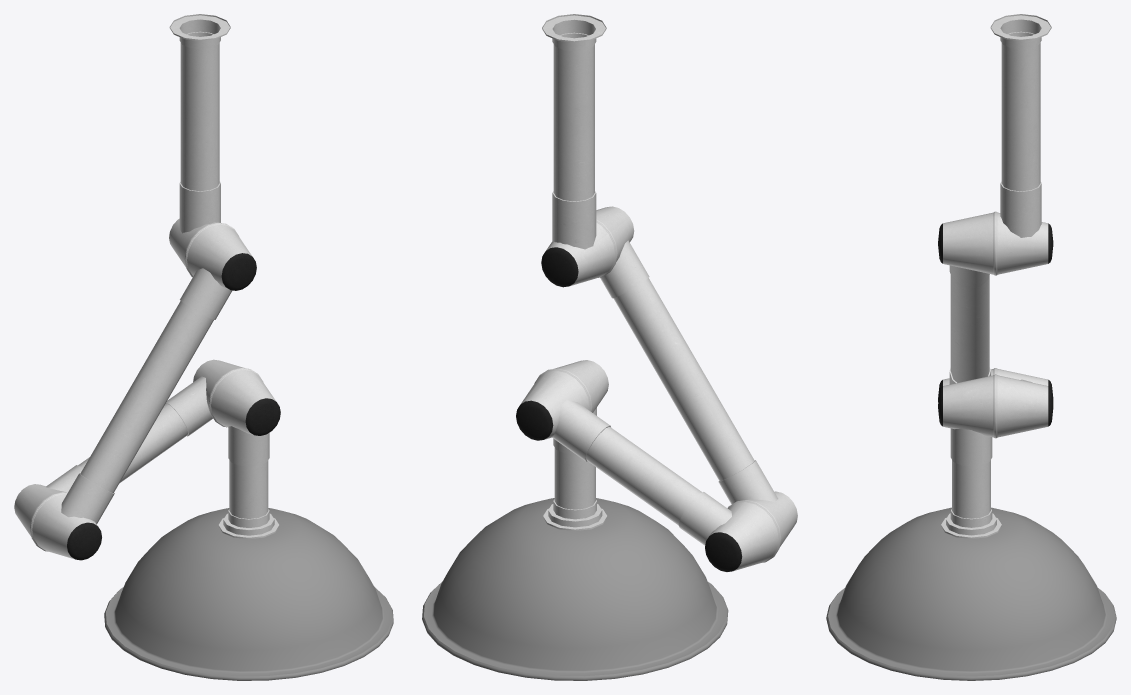
The model's file is SM_吊顶式排气罩_008.fbx.
The picture shows the model from 3 angles, left to right: view 1: azimuth 30°, elevation 25°; view 2: azimuth 150°, elevation 25°; view 3: azimuth 270°, elevation 25°; orthographic projection. The views are drawn at different scales.
Visible parts, largest first — view 1: SM_吊顶式排气罩_008; view 2: SM_吊顶式排气罩_008; view 3: SM_吊顶式排气罩_008.
Part boxes in pixels (x1,y1,x2,y2): SM_吊顶式排气罩_008: (14, 14, 393, 680); SM_吊顶式排气罩_008: (422, 14, 797, 680); SM_吊顶式排气罩_008: (826, 14, 1116, 680).
Bounding box in the file's own units: 98.41 × 164 × 74.46.
